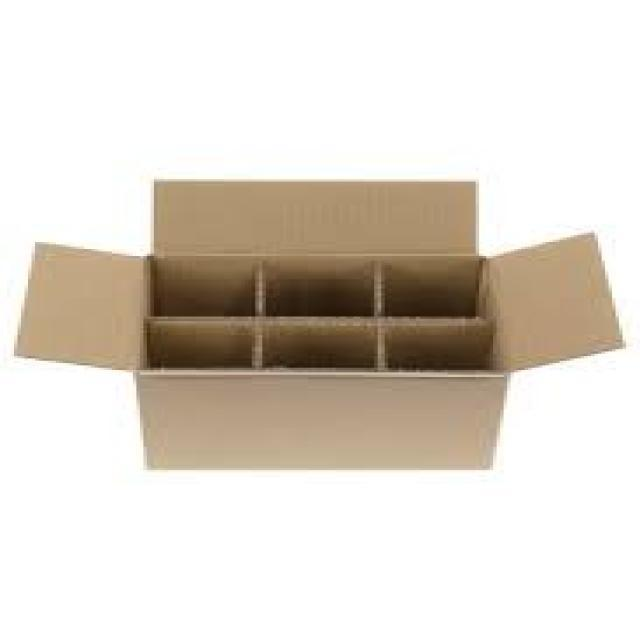Cardboard: (15, 174, 624, 475)
